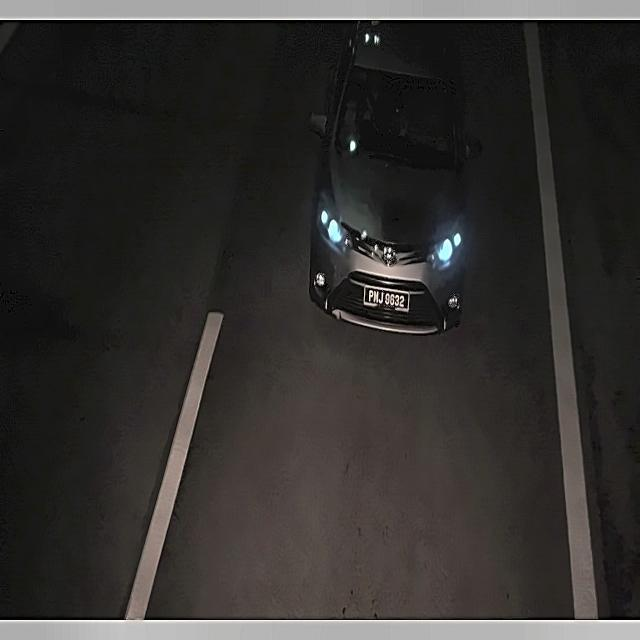car: (362, 281, 412, 318)
